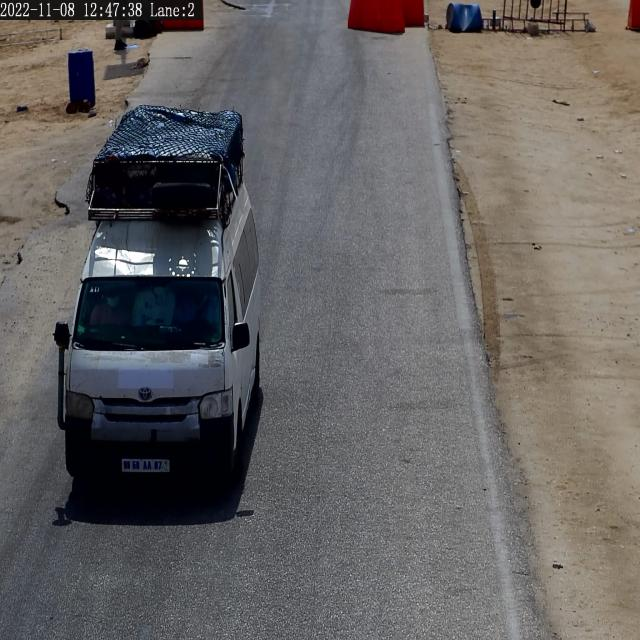BUS: (122, 459, 169, 472)
